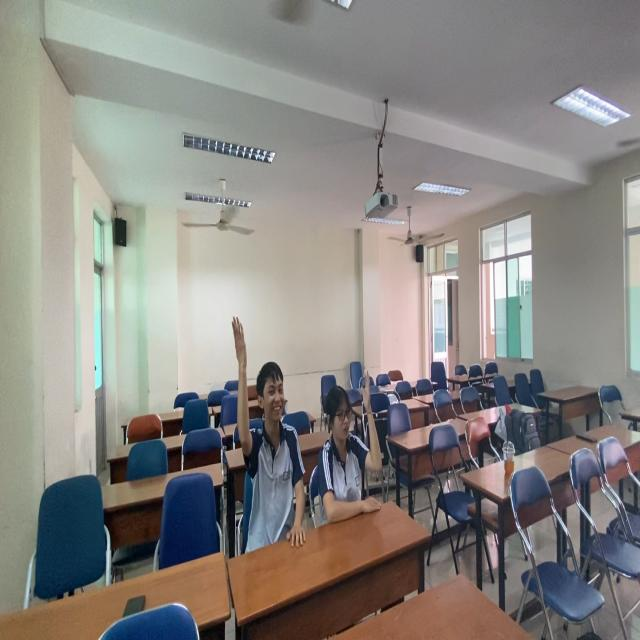raise_hand: (228, 311, 311, 551), (321, 369, 385, 505)
